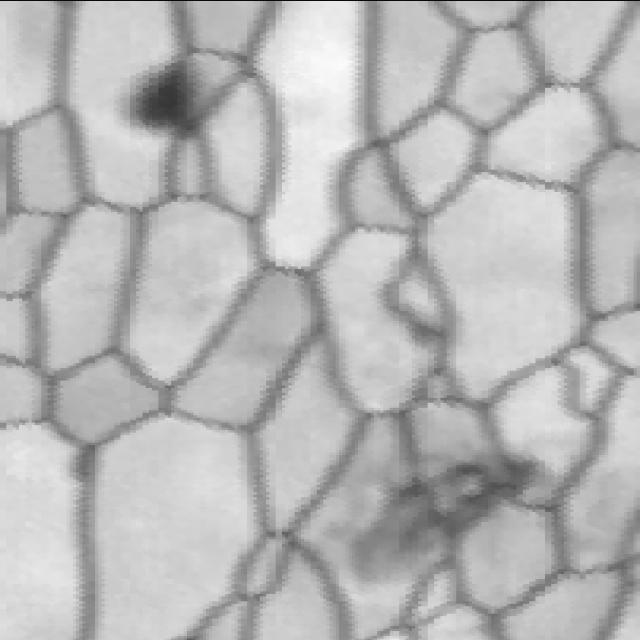good_void: (347, 451, 549, 587), (118, 48, 202, 144)
